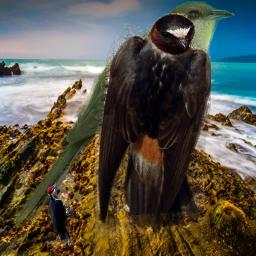Cuckoo: (14, 1, 235, 231)
Swallow: (95, 13, 211, 236)
Woodpecker: (47, 182, 77, 247)
